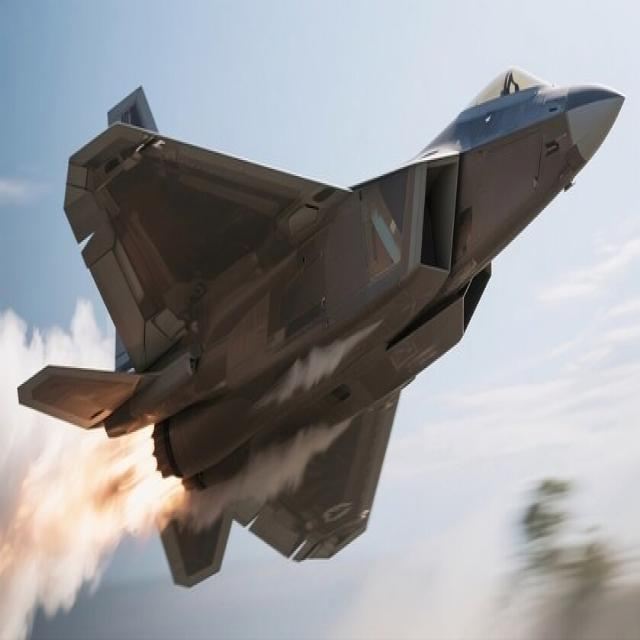F22: (10, 51, 633, 612)
